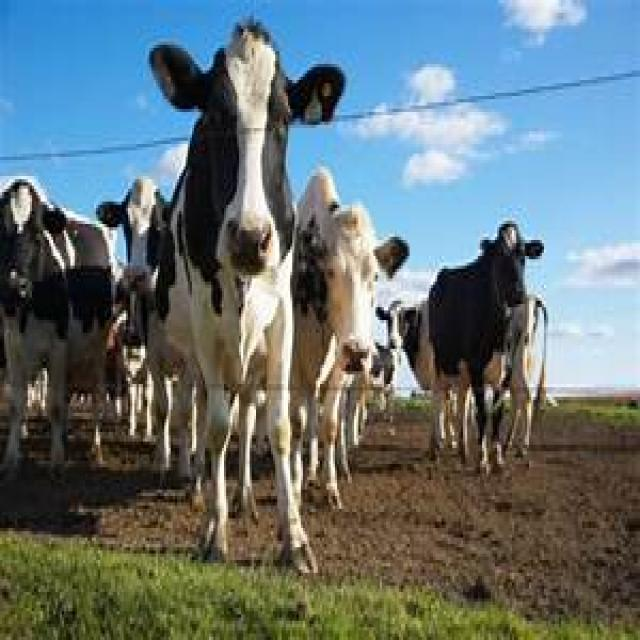animal: (149, 27, 319, 578), (288, 171, 410, 496), (2, 182, 109, 474), (427, 222, 543, 466), (381, 297, 553, 444), (99, 177, 170, 309)
